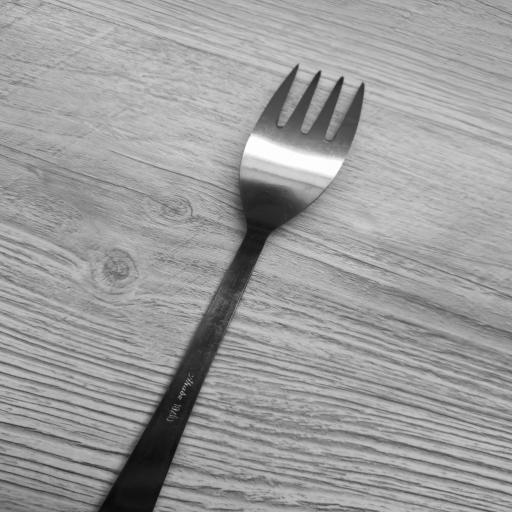fork: (94, 64, 366, 512)
